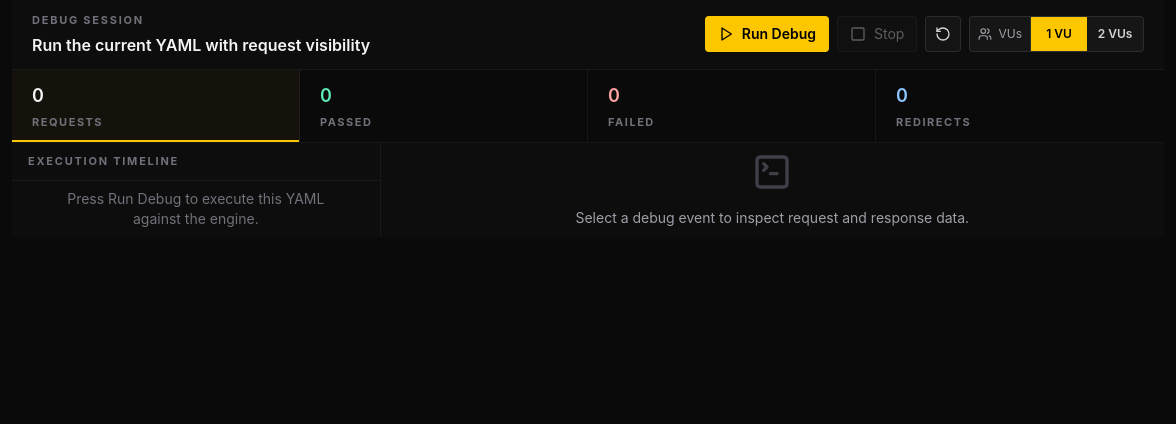
it: YAMLDebugSession tree selection sync › limits the variables tab to extractors declared by the mapped request node
The width and height of the screenshot is (1176, 424).
Click the button "Run Debug" at (767, 34), box [705, 16, 829, 52]
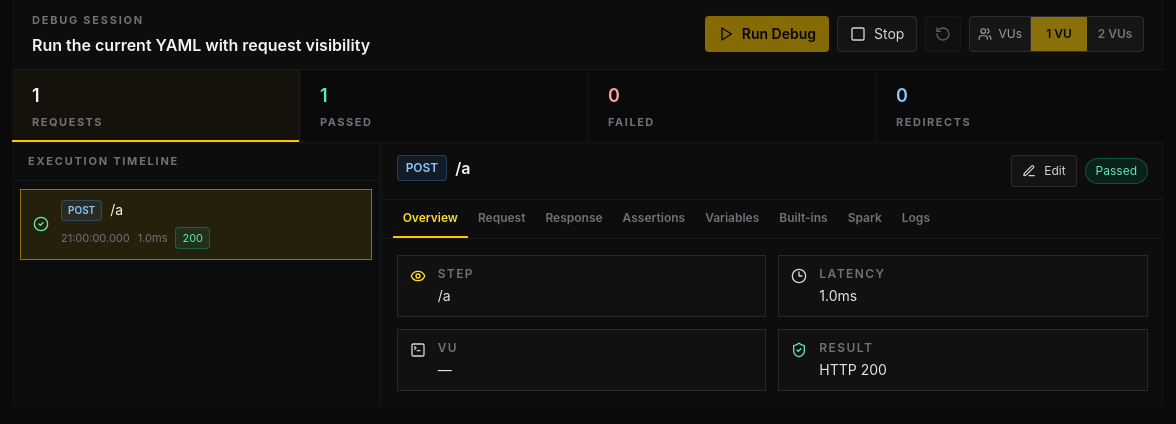
Click the button "Variables" at (732, 219), box [695, 200, 769, 238]
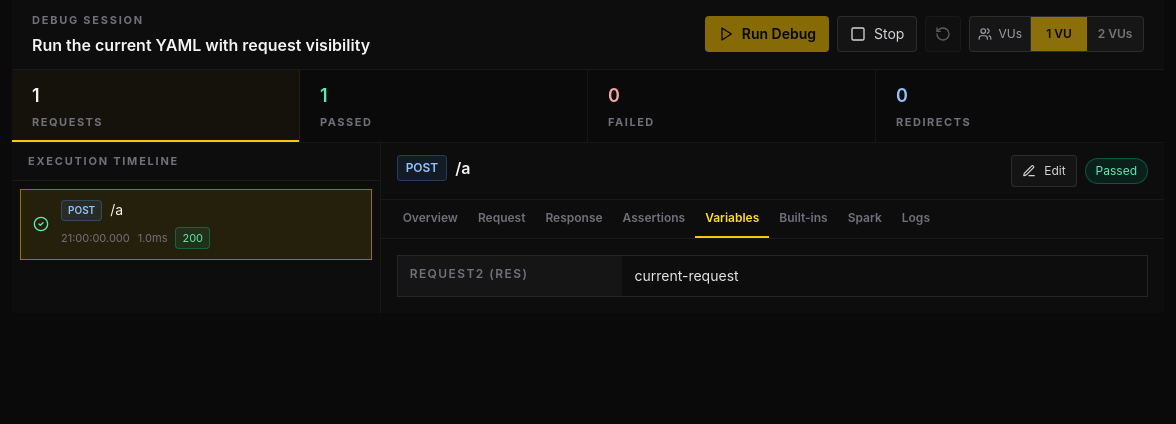
Result: the text "request2 (RES)" is shown at [398, 256, 622, 296]
Result: the text "current-request" is shown at [634, 267, 739, 284]
